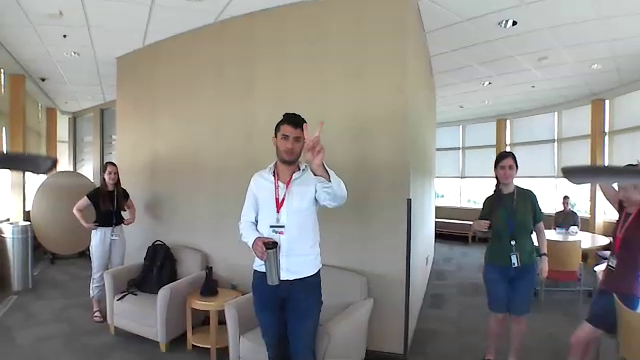peace: (295, 112, 332, 167)
